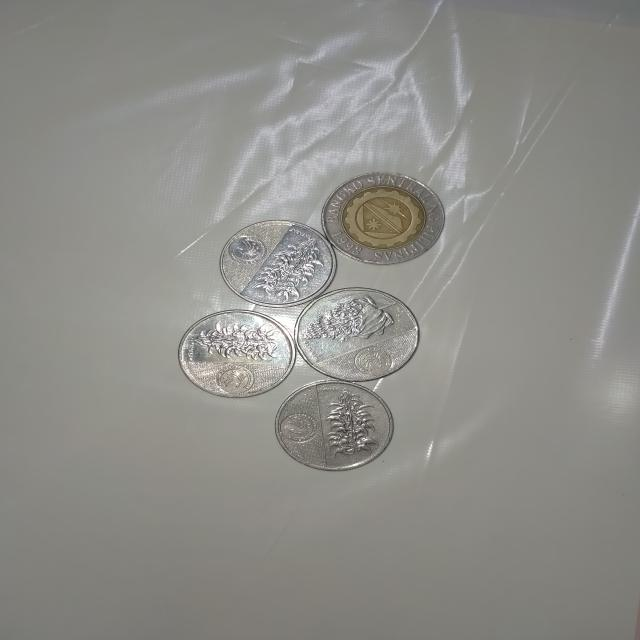10_Old_Back: (323, 172, 449, 266)
